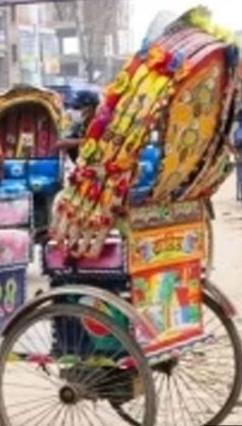Rickshaw: (0, 6, 241, 425), (0, 84, 63, 229)
